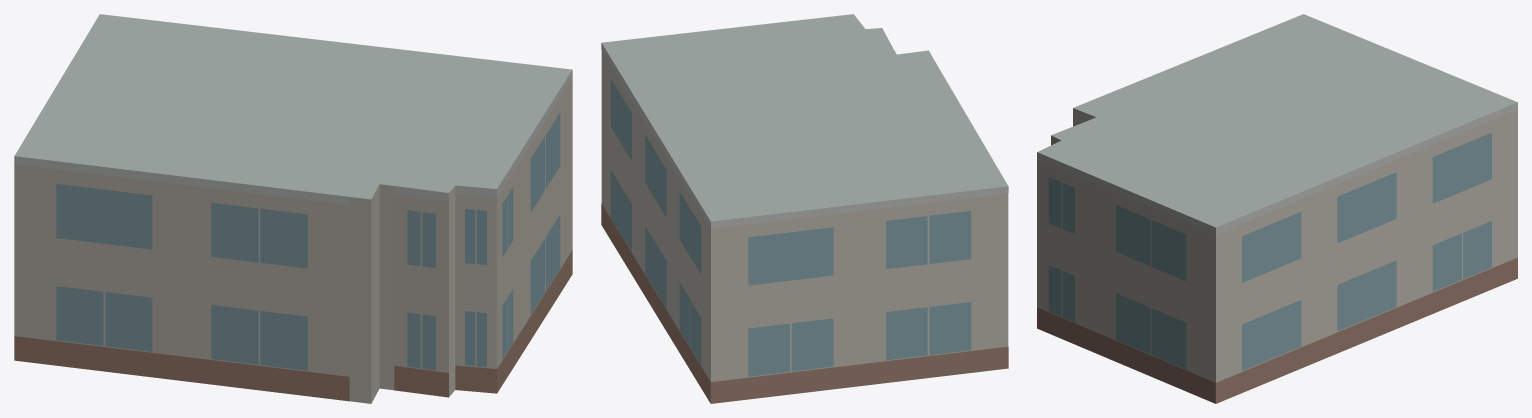
Rendered from survey-upis-32721888.glb.
3 renders of one model, left to right at view 1: azimuth 30°, elevation 25°; view 2: azimuth 150°, elevation 25°; view 3: azimuth 270°, elevation 25°, orthographic. The views are drawn at different scales.
Visible parts, largest first — view 1: survey-upis-32721888.tmp; view 2: survey-upis-32721888.tmp; view 3: survey-upis-32721888.tmp.
Part boxes in pixels (x1,y1,x2,y2): survey-upis-32721888.tmp: (14,14,572,403); survey-upis-32721888.tmp: (601,14,1008,403); survey-upis-32721888.tmp: (1037,14,1517,403).
Size of the model in its own units: 15.85 by 6.1 by 15.08.
